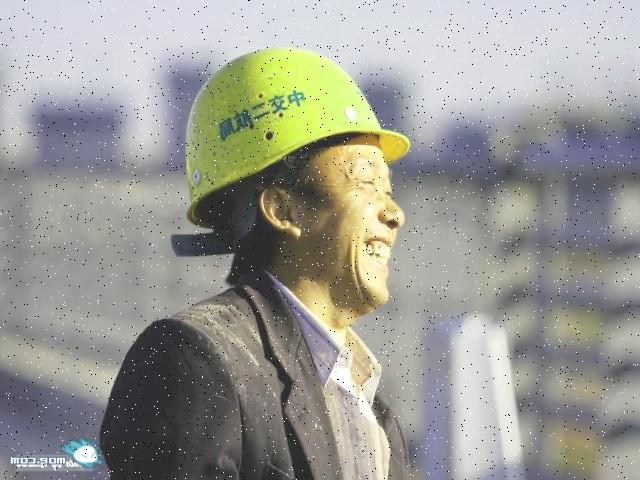Helmet: (180, 40, 416, 228)
